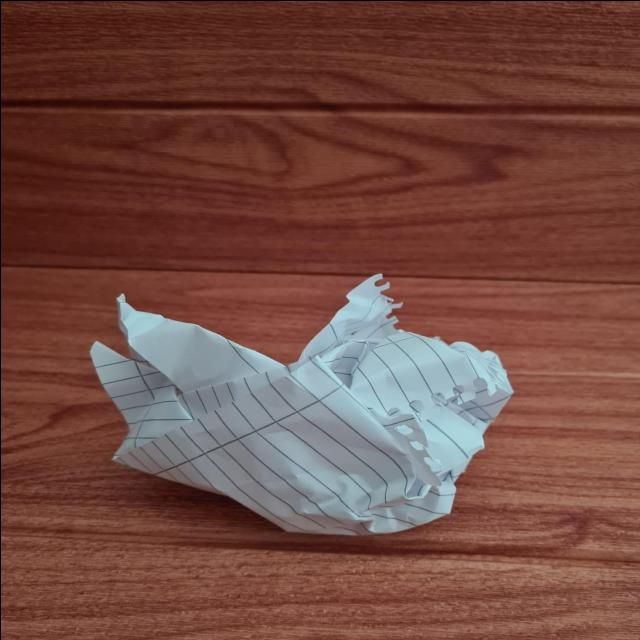kertas: (87, 298, 518, 536)
